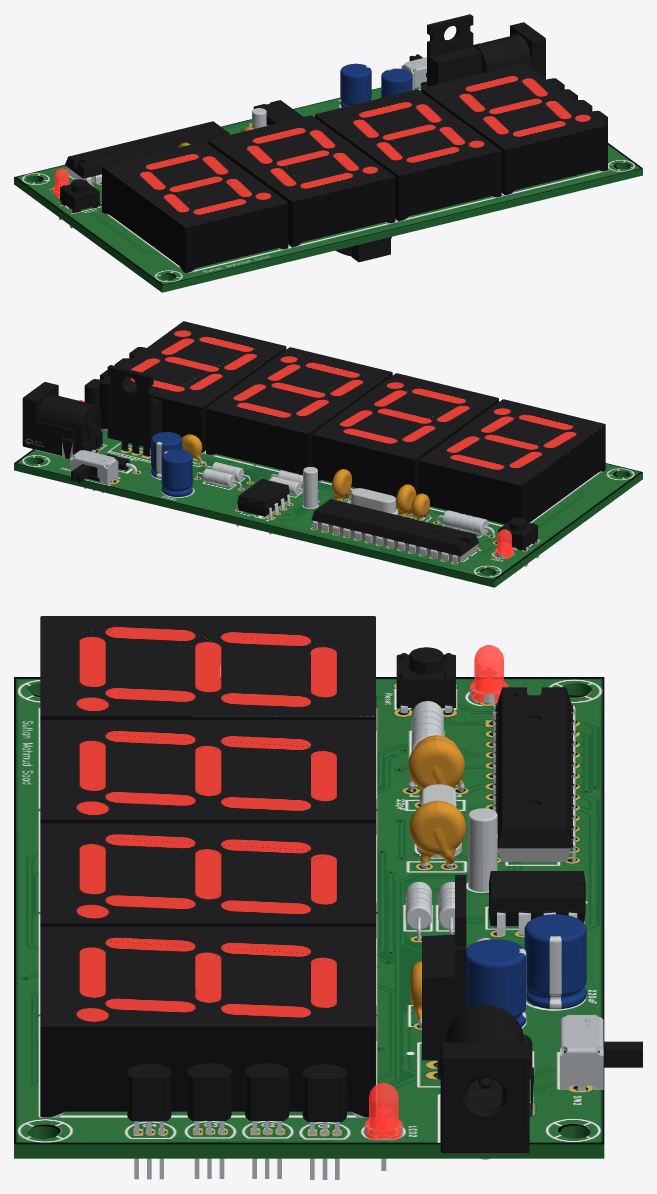
The model's file is board.glb.
The picture shows the model from 3 angles, top to bottom: view 1: azimuth 30°, elevation 25°; view 2: azimuth 150°, elevation 25°; view 3: azimuth 270°, elevation 25°; orthographic projection. The views are drawn at different scales.
Visible parts, largest first — view 1: LED3-mesh, Board-mesh, LED4-mesh, LED6-mesh, LED5-mesh, U1-mesh, U5-mesh (×2), 9V-12V-mesh, U6-mesh, SW1-mesh, B1-mesh, U4-mesh (+2 smaller); view 2: Board-mesh, LED3-mesh, LED5-mesh, LED4-mesh, LED6-mesh, U1-mesh, 9V-12V-mesh (×2), U5-mesh (×2), U12-mesh, U6-mesh, SW2-mesh, SW1-mesh (+9 smaller); view 3: Board-mesh, LED6-mesh, LED5-mesh, LED3-mesh, LED4-mesh, U1-mesh, 9V-12V-mesh (×2), U6-mesh (×2), U5-mesh (×2), U12-mesh, SW2-mesh (×2), U4-mesh (+13 smaller).
Part boxes in pixels (x1=…): LED3-mesh: x1=102, y1=141, x2=288, y2=273; Board-mesh: x1=14, y1=85, x2=642, y2=292; LED4-mesh: x1=208, y1=115, x2=395, y2=246; LED6-mesh: x1=421, y1=63, x2=607, y2=195; LED5-mesh: x1=315, y1=89, x2=501, y2=221; U1-mesh: x1=65, y1=121, x2=229, y2=183; U5-mesh (×2): x1=427, y1=14, x2=481, y2=93; 9V-12V-mesh: x1=480, y1=22, x2=545, y2=78; U6-mesh: x1=340, y1=63, x2=371, y2=107; SW1-mesh: x1=59, y1=179, x2=100, y2=228; B1-mesh: x1=335, y1=237, x2=391, y2=262; U4-mesh: x1=381, y1=68, x2=412, y2=97; Board-mesh: x1=14, y1=372, x2=642, y2=587; LED3-mesh: x1=419, y1=399, x2=605, y2=524; LED5-mesh: x1=206, y1=347, x2=392, y2=475; LED4-mesh: x1=312, y1=373, x2=498, y2=497; LED6-mesh: x1=99, y1=321, x2=286, y2=452; U1-mesh: x1=311, y1=499, x2=478, y2=562; 9V-12V-mesh (×2): x1=22, y1=382, x2=102, y2=455; U5-mesh (×2): x1=107, y1=365, x2=161, y2=456; U12-mesh: x1=236, y1=479, x2=290, y2=534; U6-mesh: x1=161, y1=449, x2=192, y2=496; SW2-mesh: x1=70, y1=450, x2=118, y2=485; SW1-mesh: x1=498, y1=517, x2=539, y2=566; Board-mesh: x1=14, y1=677, x2=604, y2=1158; LED6-mesh: x1=40, y1=926, x2=376, y2=1117; LED5-mesh: x1=40, y1=823, x2=376, y2=1004; LED3-mesh: x1=40, y1=616, x2=376, y2=794; LED4-mesh: x1=40, y1=720, x2=376, y2=900; U1-mesh: x1=497, y1=687, x2=571, y2=861; 9V-12V-mesh (×2): x1=440, y1=1012, x2=529, y2=1159; U6-mesh (×2): x1=524, y1=914, x2=586, y2=1009; U5-mesh (×2): x1=422, y1=875, x2=466, y2=1079; U12-mesh: x1=489, y1=871, x2=585, y2=935; SW2-mesh (×2): x1=560, y1=1014, x2=642, y2=1091; U4-mesh: x1=466, y1=939, x2=525, y2=1027.
Size of the model in its own units: 0.1145 by 0.0294 by 0.0637.
14 materials, 3 textured.
